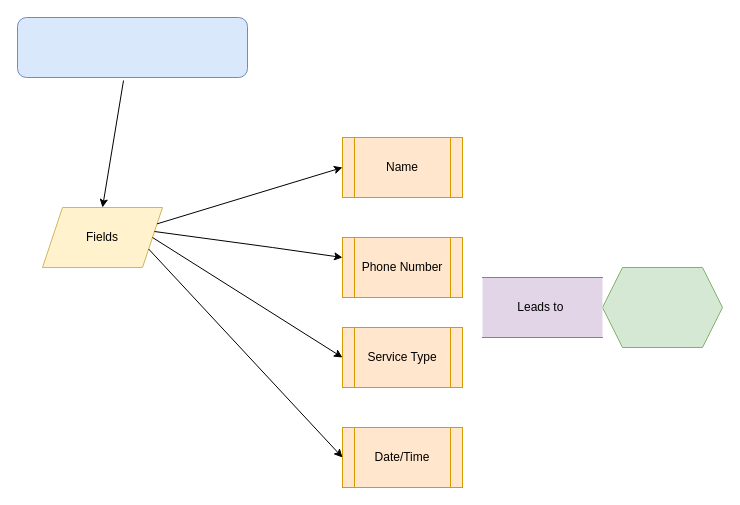
Image size: 740x505. Some labels were removed from this diagram. Here are the shapes that lost their labels. From the top down, the centre of each, then its label:
point 132,47: BOOK APPOINTMENT
point 662,307: Confirmation
